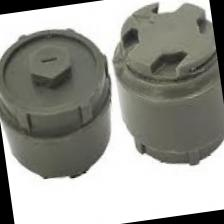M14: (109, 0, 224, 171), (0, 21, 119, 183)
